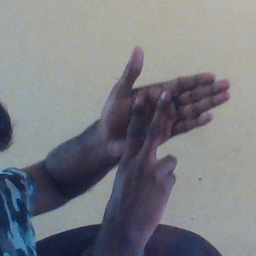N: (92, 42, 234, 194)
